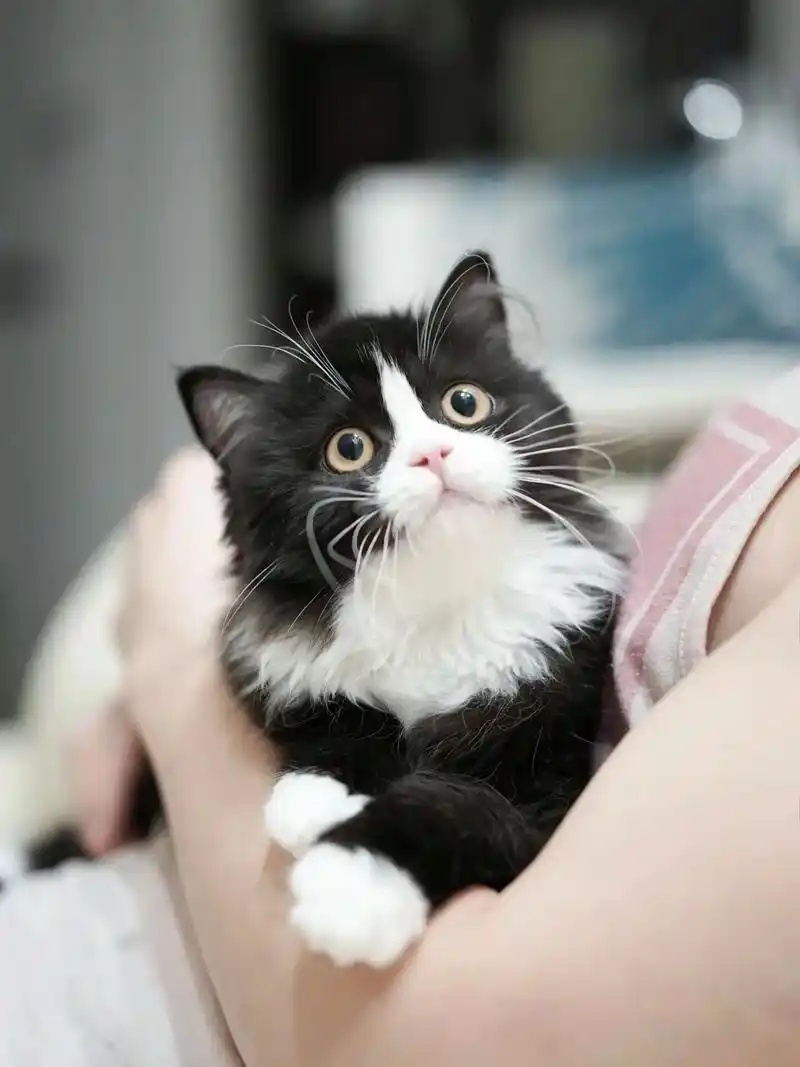奶牛猫: (178, 252, 630, 726)
